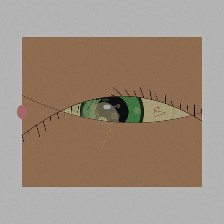corneal_ulcer: (75, 97, 132, 143)
